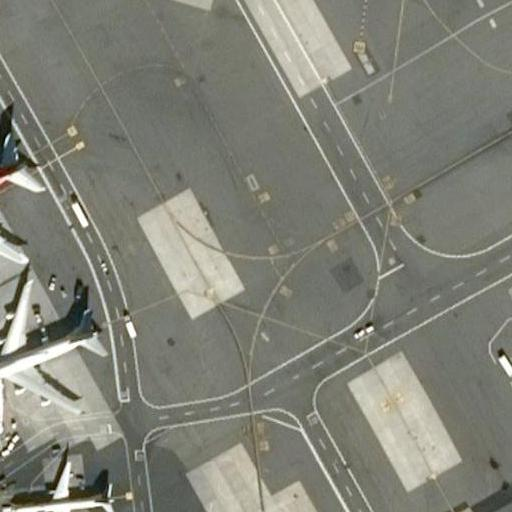Aircraft: (0, 267, 108, 415), (0, 99, 46, 266), (4, 449, 121, 512)
